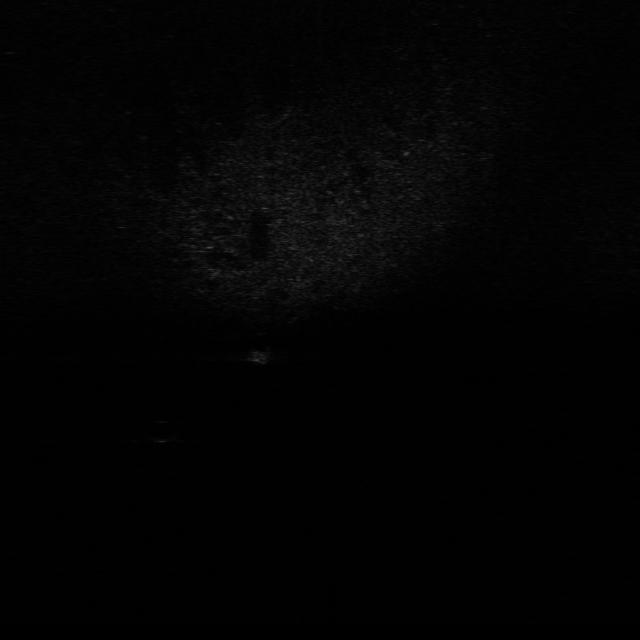ball: (148, 414, 181, 442)
cube: (243, 341, 276, 366)
